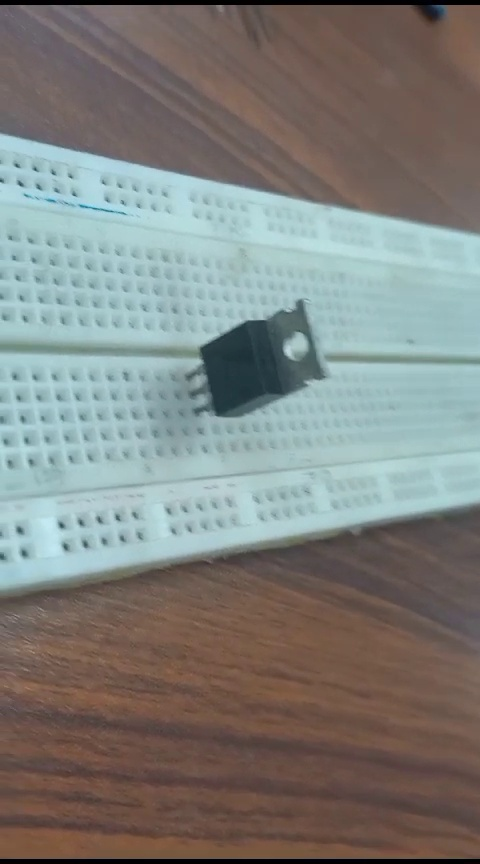voltage regulator: (166, 301, 330, 439)
